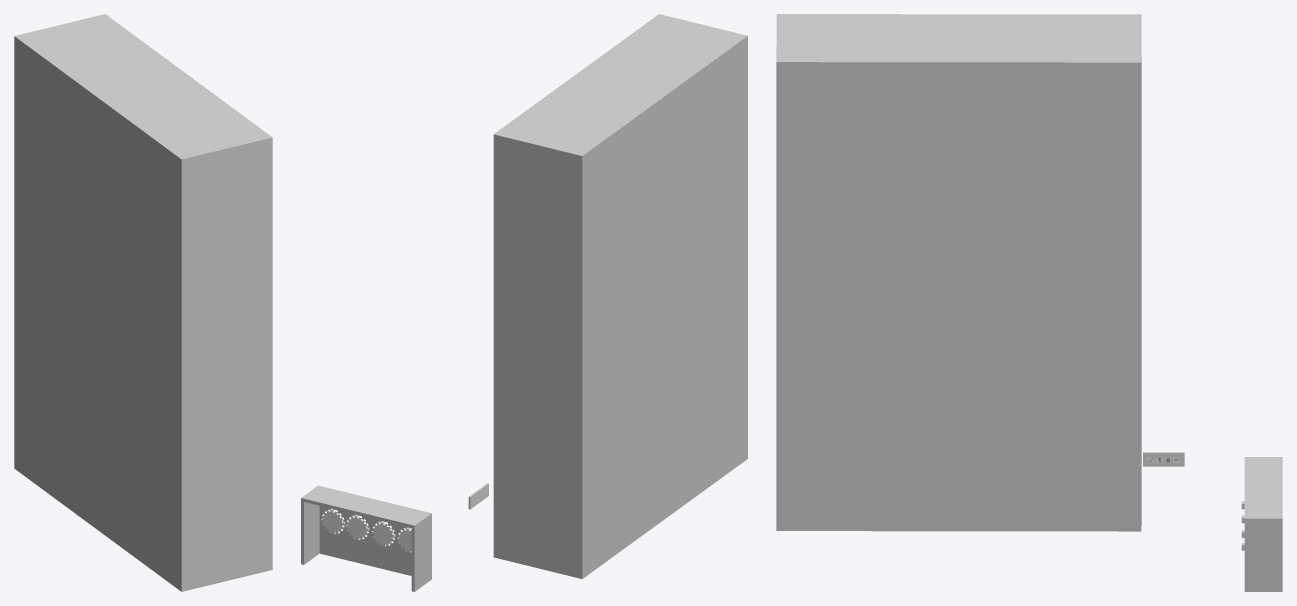
The model's file is Lock.glb.
The picture shows the model from 3 angles, left to right: view 1: azimuth 30°, elevation 25°; view 2: azimuth 150°, elevation 25°; view 3: azimuth 270°, elevation 25°; orthographic projection. The views are drawn at different scales.
Visible parts, largest first — view 1: Door; view 2: Door, GearBox; view 3: Door, GearBox.
Boxes of the visible parts, x1=… form: Door: x1=14, y1=14, x2=272, y2=591; Door: x1=493, y1=14, x2=747, y2=578; GearBox: x1=301, y1=485, x2=431, y2=591; Door: x1=776, y1=14, x2=1141, y2=531; GearBox: x1=1244, y1=457, x2=1282, y2=591.
Size of the model in its own units: 7.25 by 13.4 by 13.11.
Materials: 2 (1 with a texture image).
